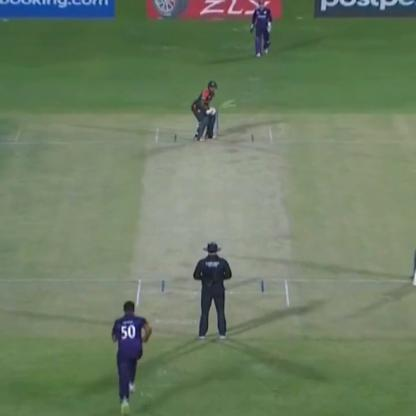bat: (211, 99, 238, 115)
pitch: (131, 116, 303, 321)
